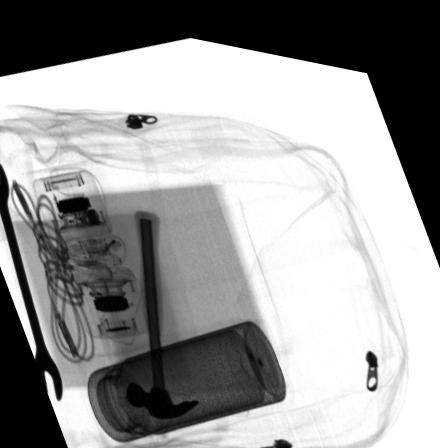Hammer: (124, 203, 200, 411)
Wrench: (0, 163, 62, 400)
